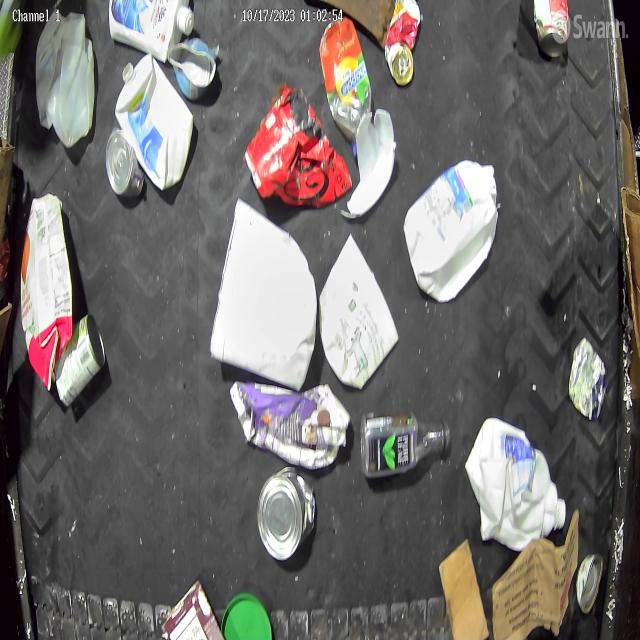can: (258, 467, 316, 564), (56, 319, 104, 410), (568, 336, 608, 424), (168, 36, 218, 103), (384, 2, 420, 88), (104, 128, 145, 200), (533, 0, 570, 51), (577, 552, 604, 615)
milk_jug: (467, 419, 567, 554), (404, 159, 498, 301), (35, 12, 97, 144)
non_white_jug: (116, 56, 196, 192), (229, 382, 351, 470), (20, 194, 74, 390)
plastic_bottle: (320, 15, 372, 155), (361, 411, 449, 480)
